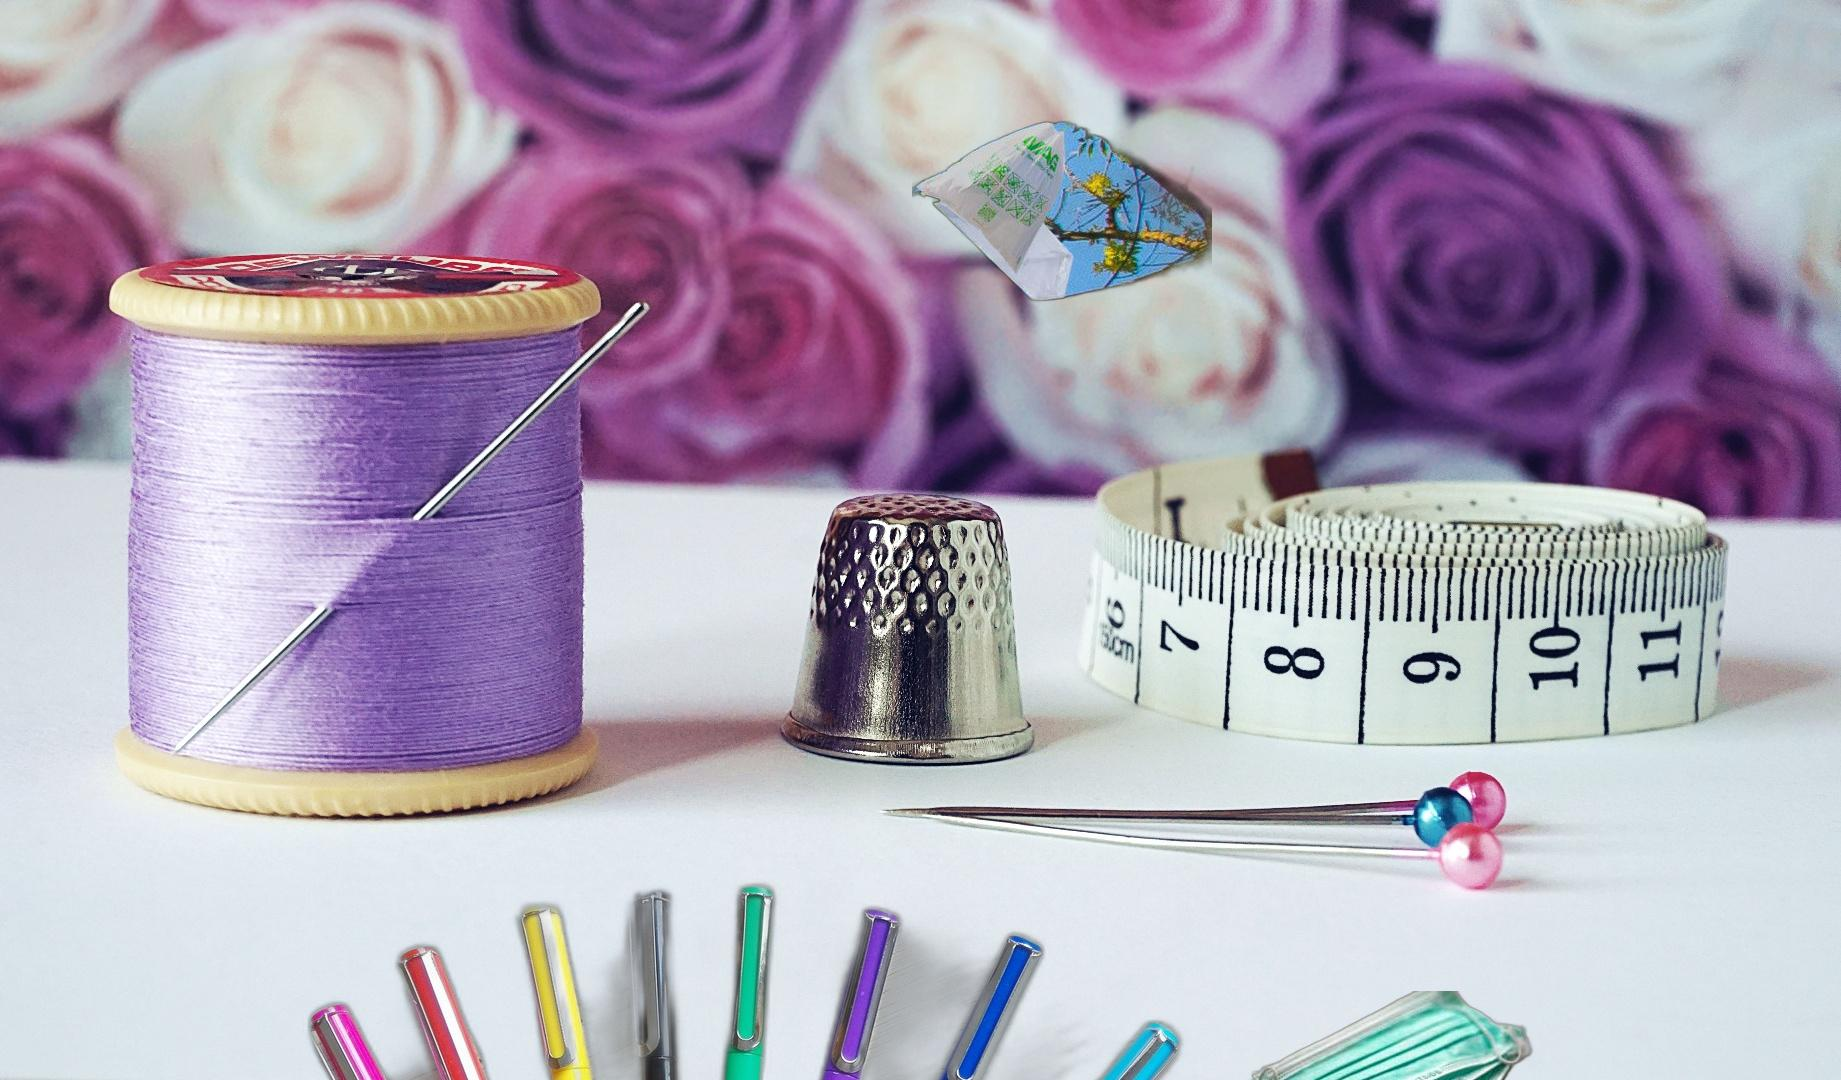penholder: (302, 699, 1278, 1080)
plastic-bag: (912, 116, 1212, 318)
trash: (1242, 991, 1535, 1080)
